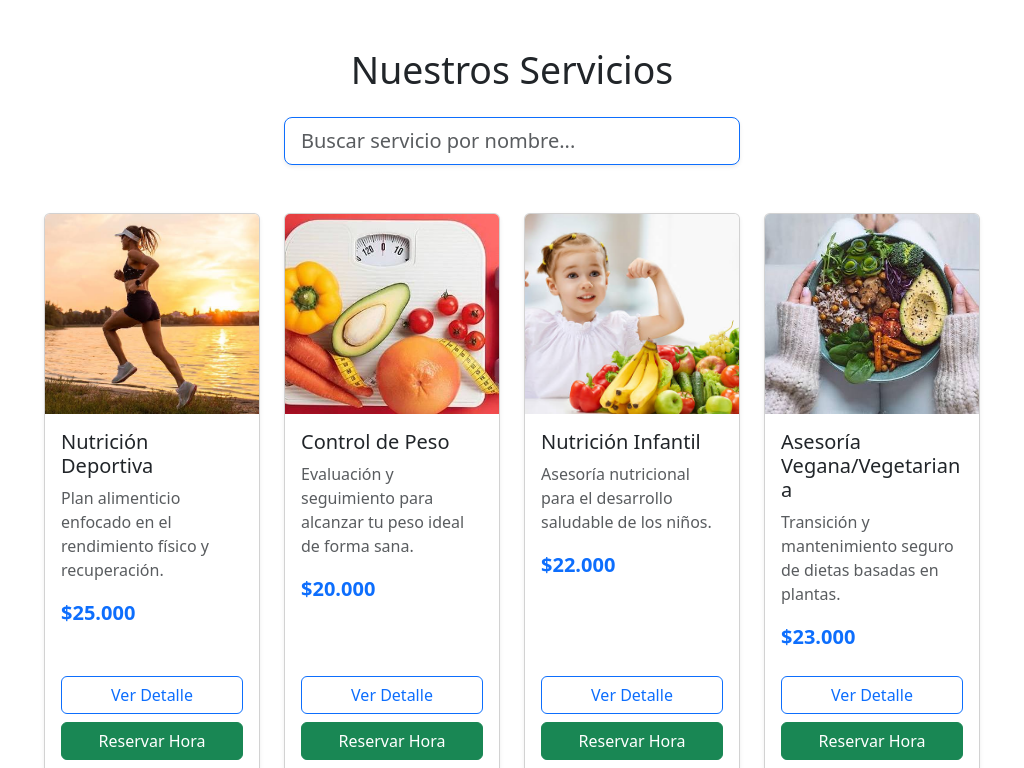
Test: 13. Servicios filtra dinámicamente y muestra alerta cuando no hay coincidencias
Type "Tratamiento Inexistente" into the field with placeholder "Buscar servicio por nombre..." at (512, 141), box [284,117,740,165]
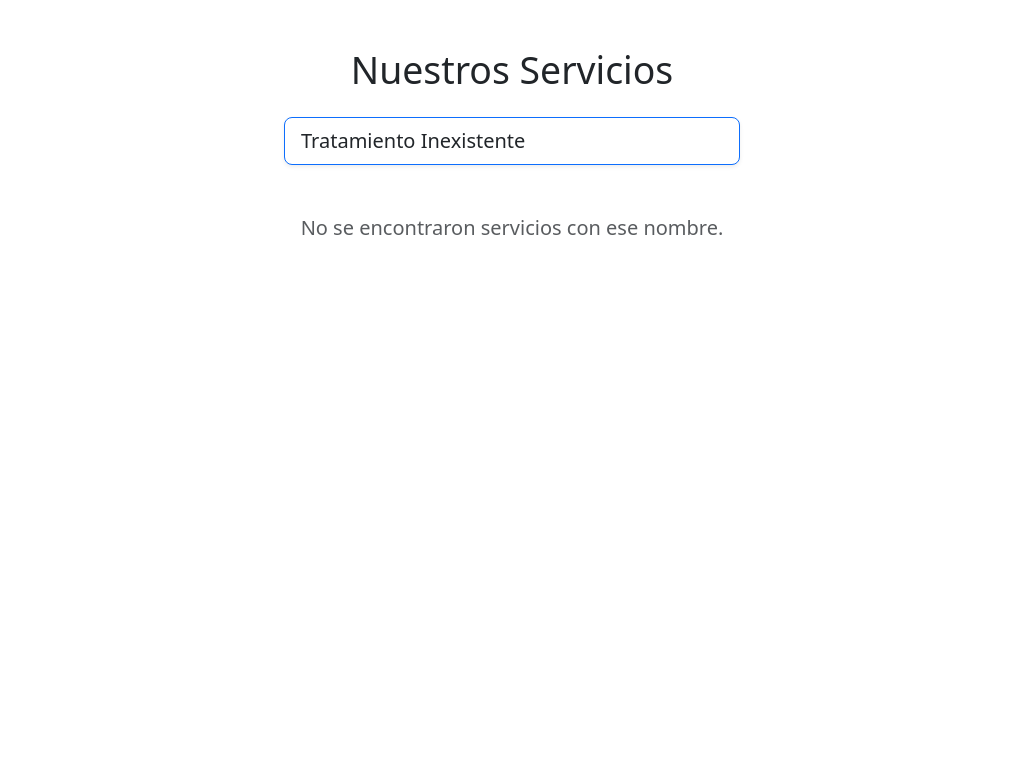
Now the text "No se encontraron servicios con ese nombre." is shown, box [301,214,723,241]
